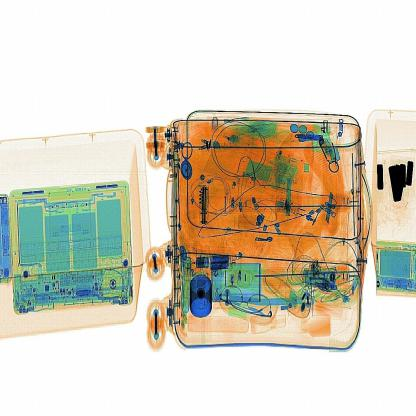scissors: (195, 180, 211, 230)
